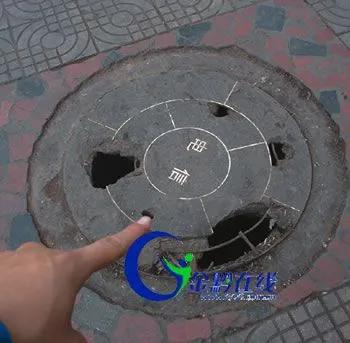wellcover: (41, 64, 316, 283)
